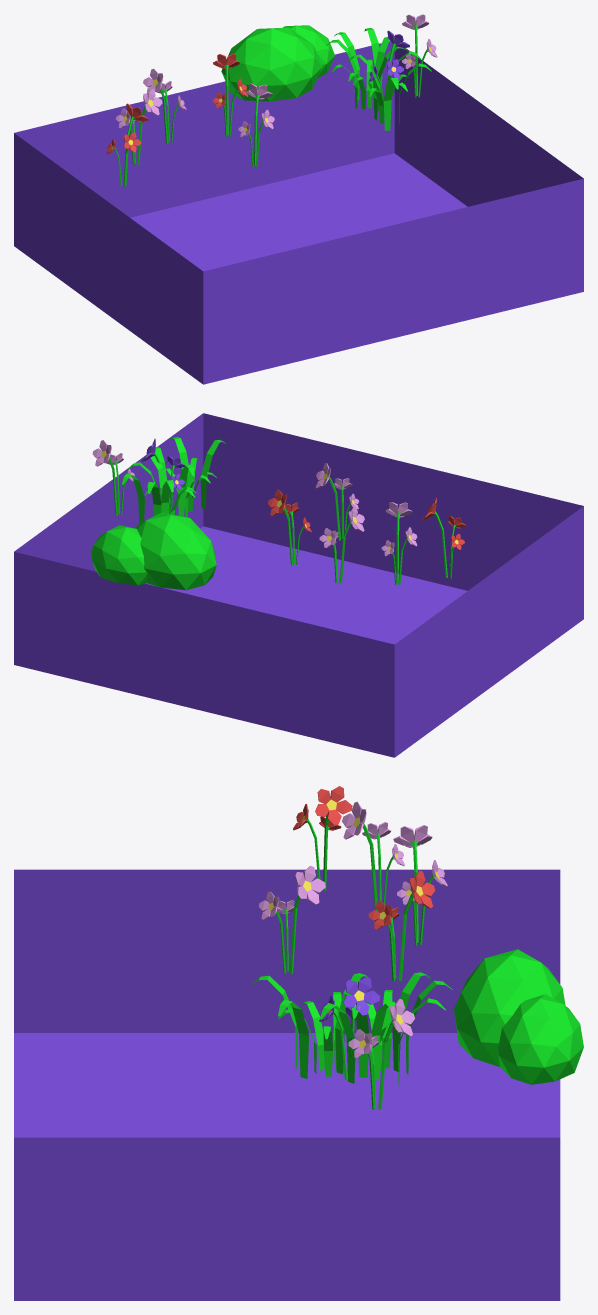
3 renders of one model, top to bottom at view 1: azimuth 30°, elevation 25°; view 2: azimuth 150°, elevation 25°; view 3: azimuth 270°, elevation 25°, orthographic. The views are drawn at different scales.
Parts seen in each view (by area): view 1: base; view 2: base; view 3: base.
Part boxes in pixels (<box>): base: <box>14,14,583,384</box>; base: <box>14,413,583,757</box>; base: <box>14,786,583,1300</box>.
Size of the model in its own units: 3.81 by 1.81 by 3.43.
